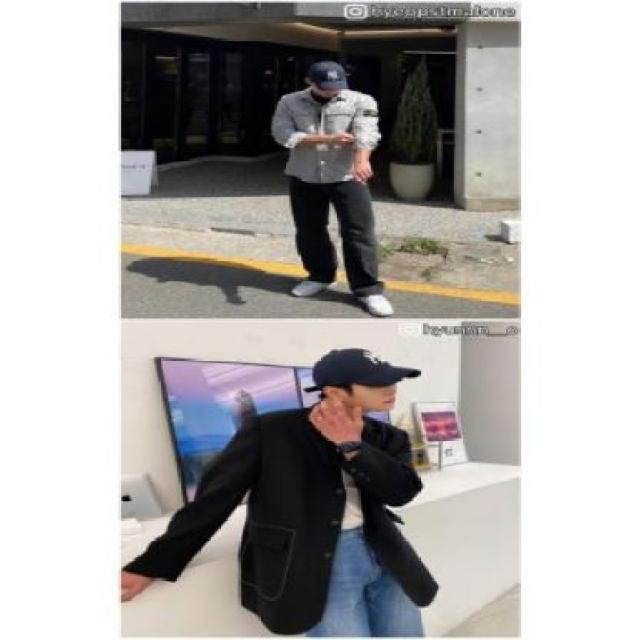hat: (310, 344, 422, 385), (300, 60, 358, 95)
